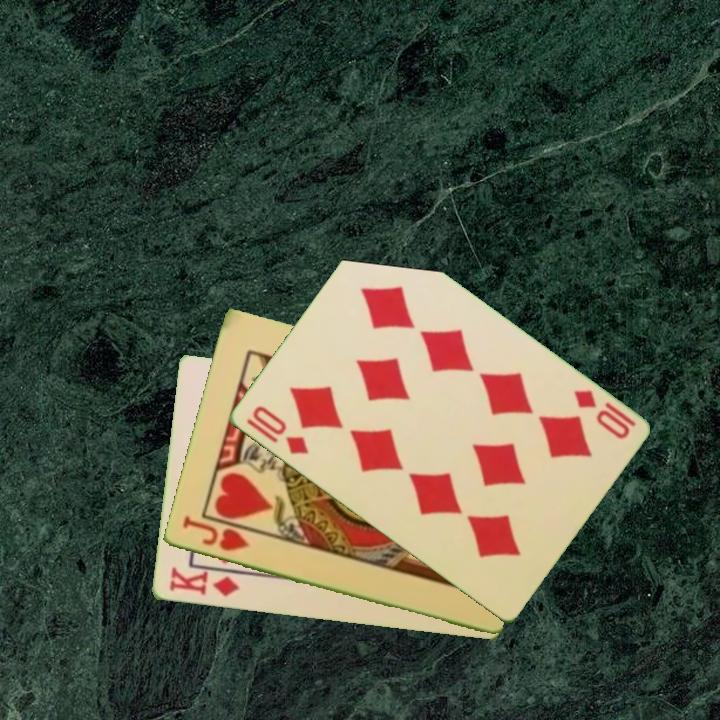10d: (569, 386, 639, 442), (248, 402, 311, 458)
Jh: (178, 513, 252, 554)
Kd: (165, 564, 242, 600)
